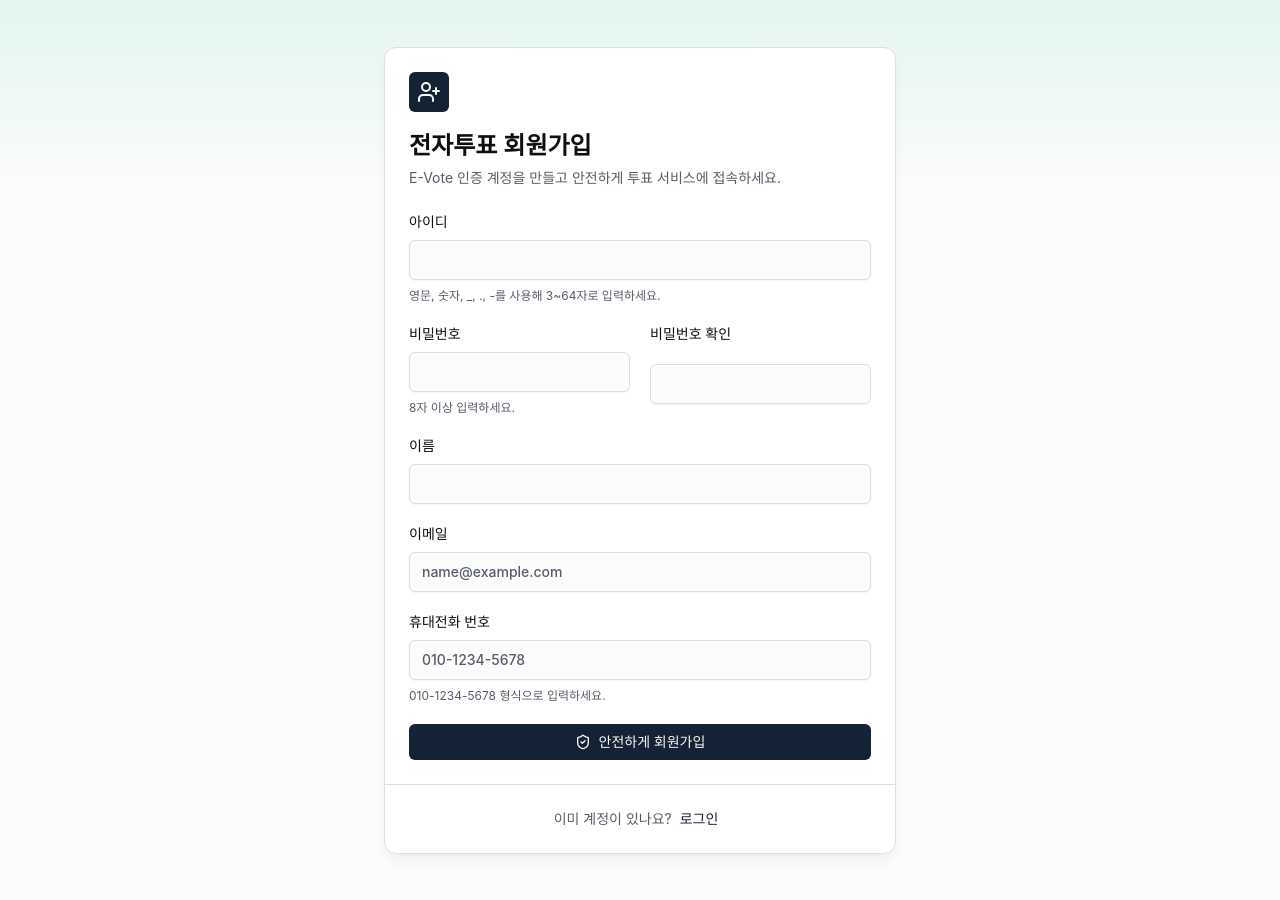
it: SignUpContainer › stops submission when password confirmation does not match
This screenshot has width=1280, height=900.
Type "voter01" into the field labelled "아이디" at (640, 260), box x1=409 y1=240 x2=871 y2=280
Type "password123" into the password field labelled "비밀번호" at (520, 372), box x1=409 y1=352 x2=630 y2=392
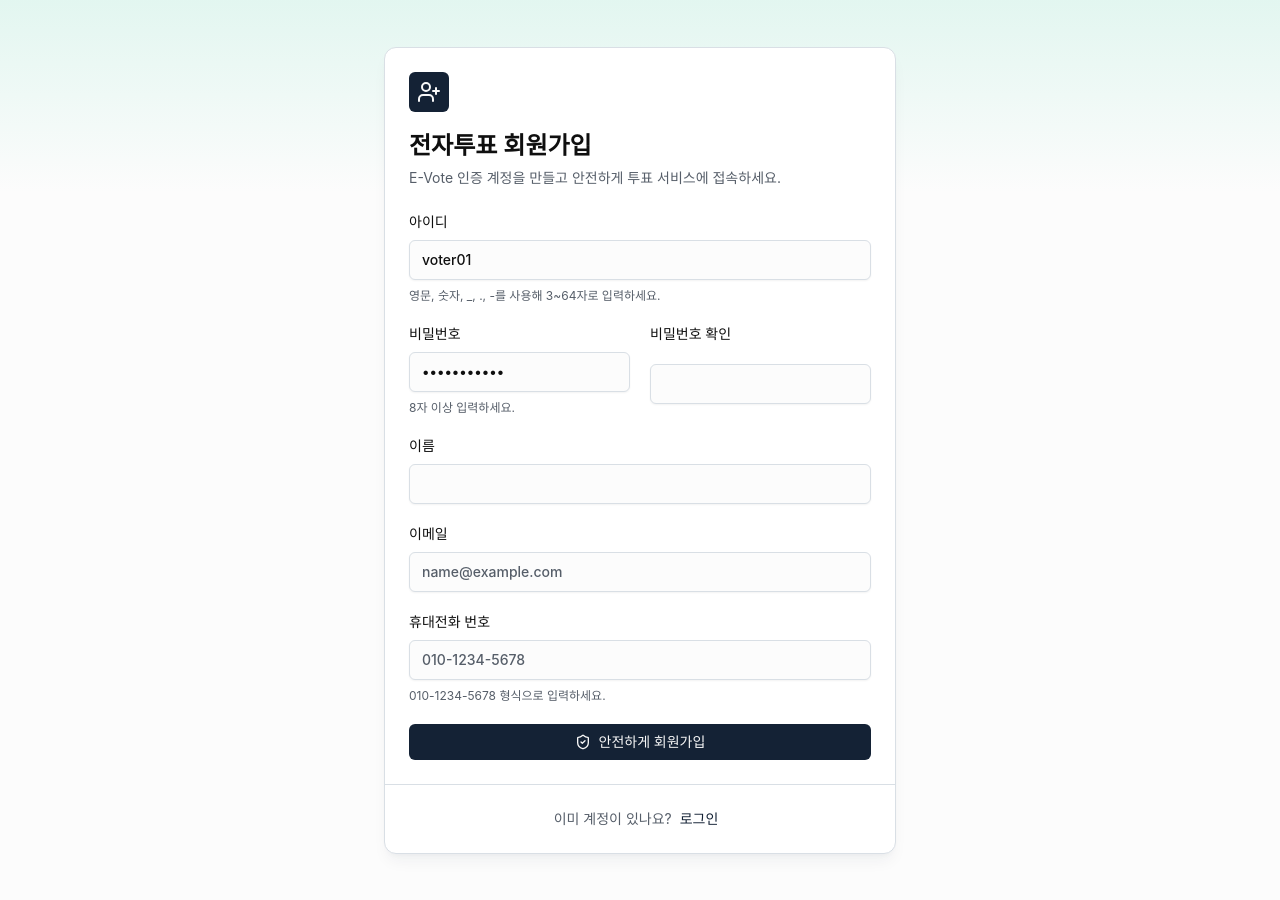
Type "different-password" into the password field labelled "비밀번호 확인" at (760, 384), box x1=650 y1=364 x2=871 y2=404
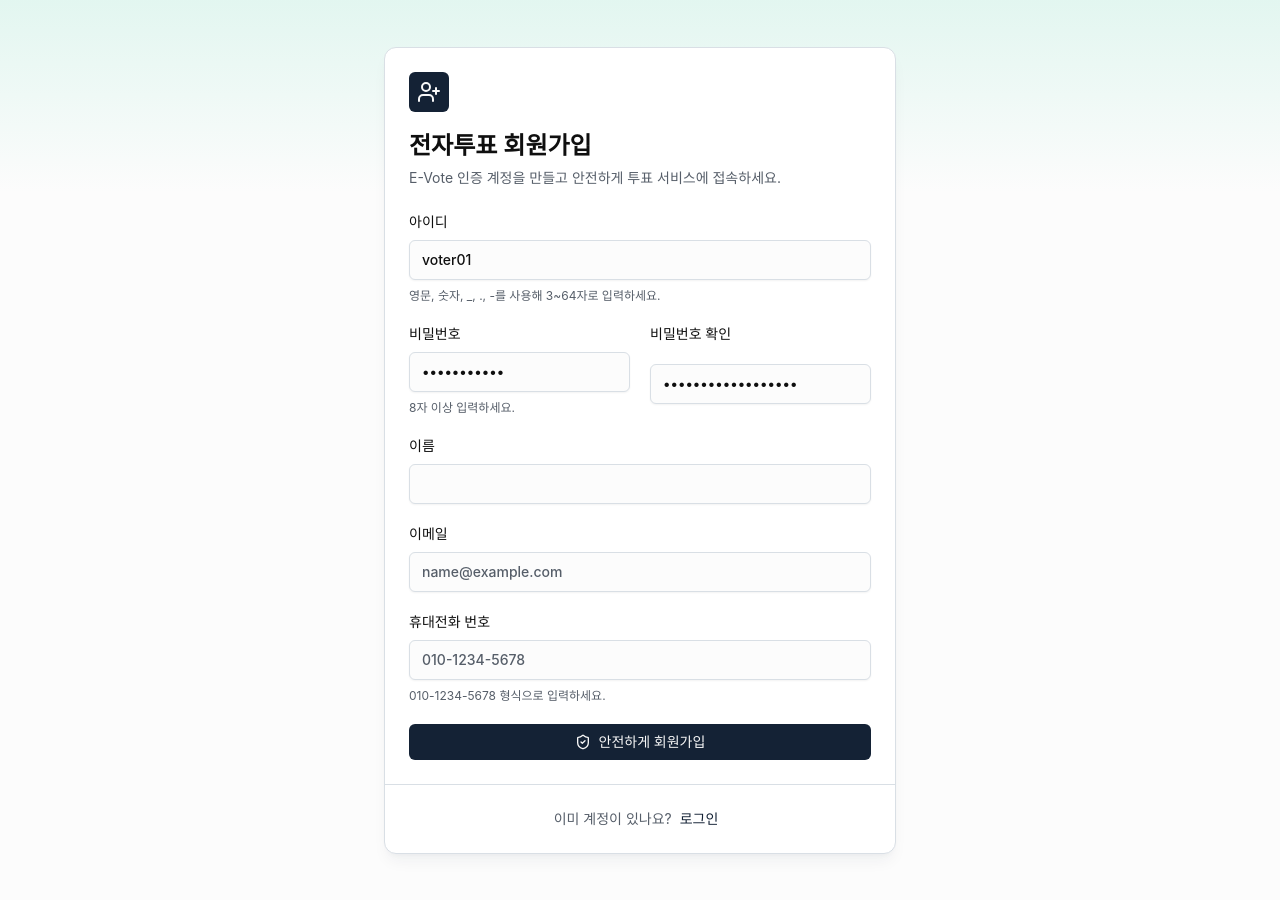
Type "김투표" into the field labelled "이름" at (640, 484), box x1=409 y1=464 x2=871 y2=504
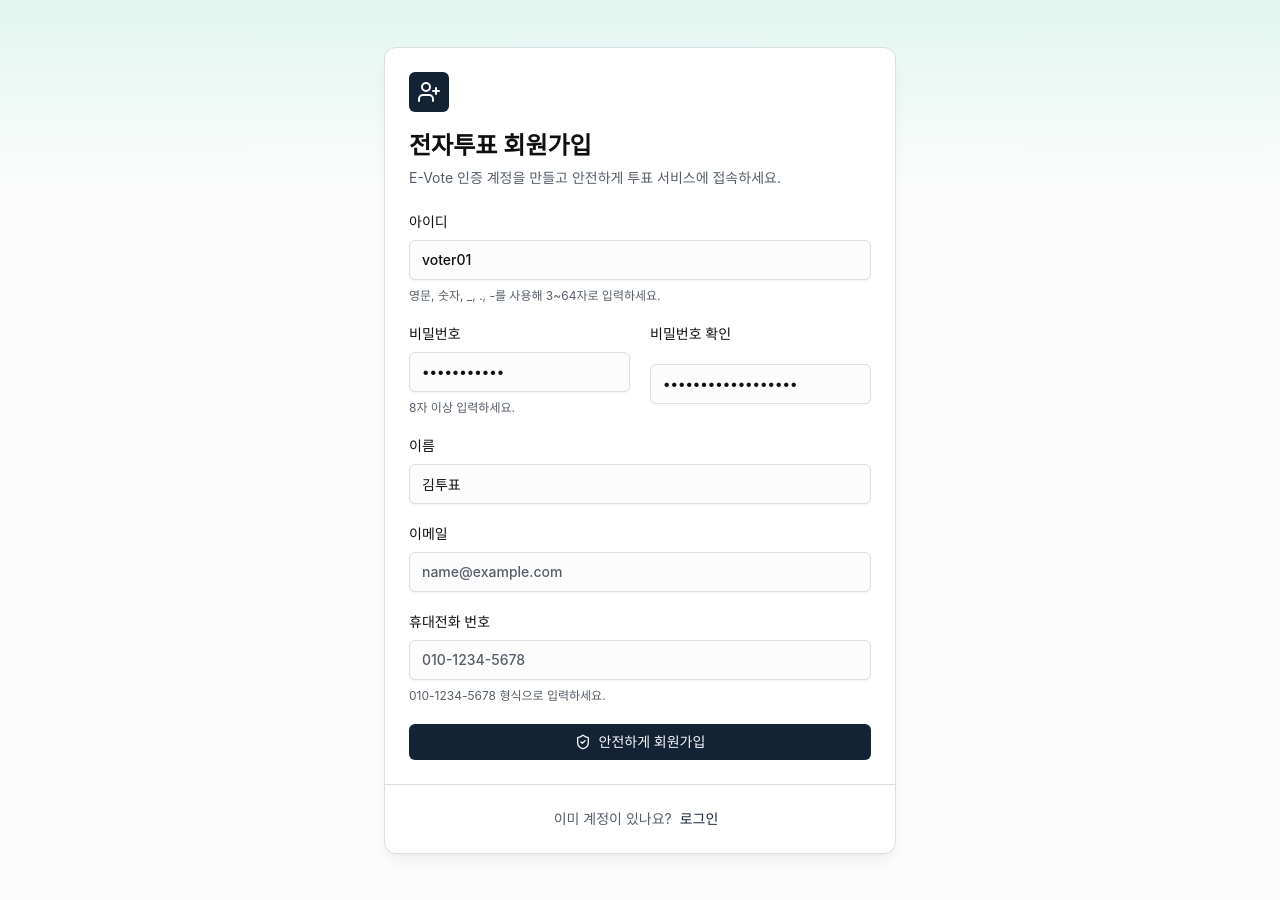
Type "voter@example.com" into the field labelled "이메일" at (640, 572), box x1=409 y1=552 x2=871 y2=592
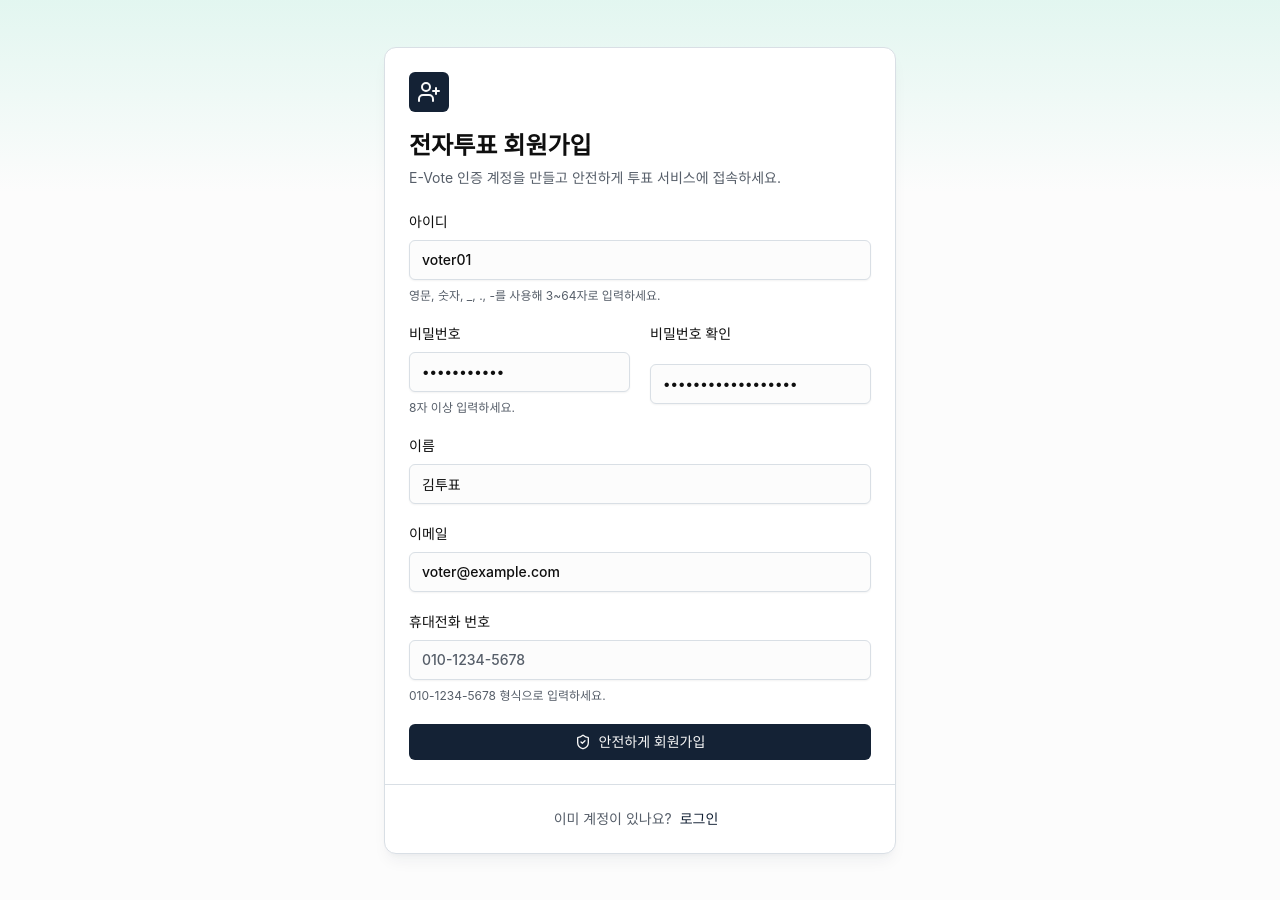
Type "01012345678" into the field labelled "휴대전화 번호" at (640, 660), box x1=409 y1=640 x2=871 y2=680
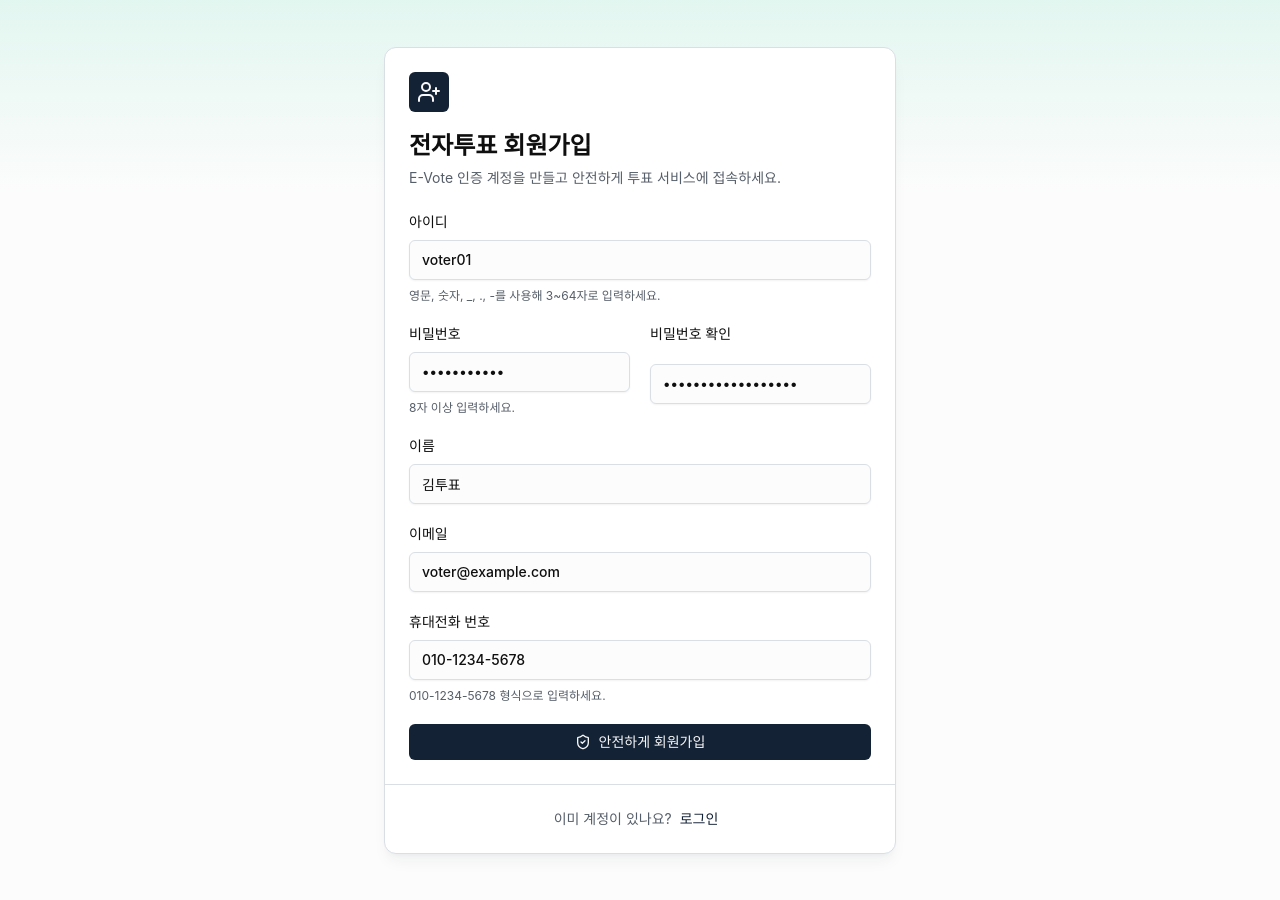
Submit the form named "안전하게 회원가입", box x1=409 y1=212 x2=871 y2=760
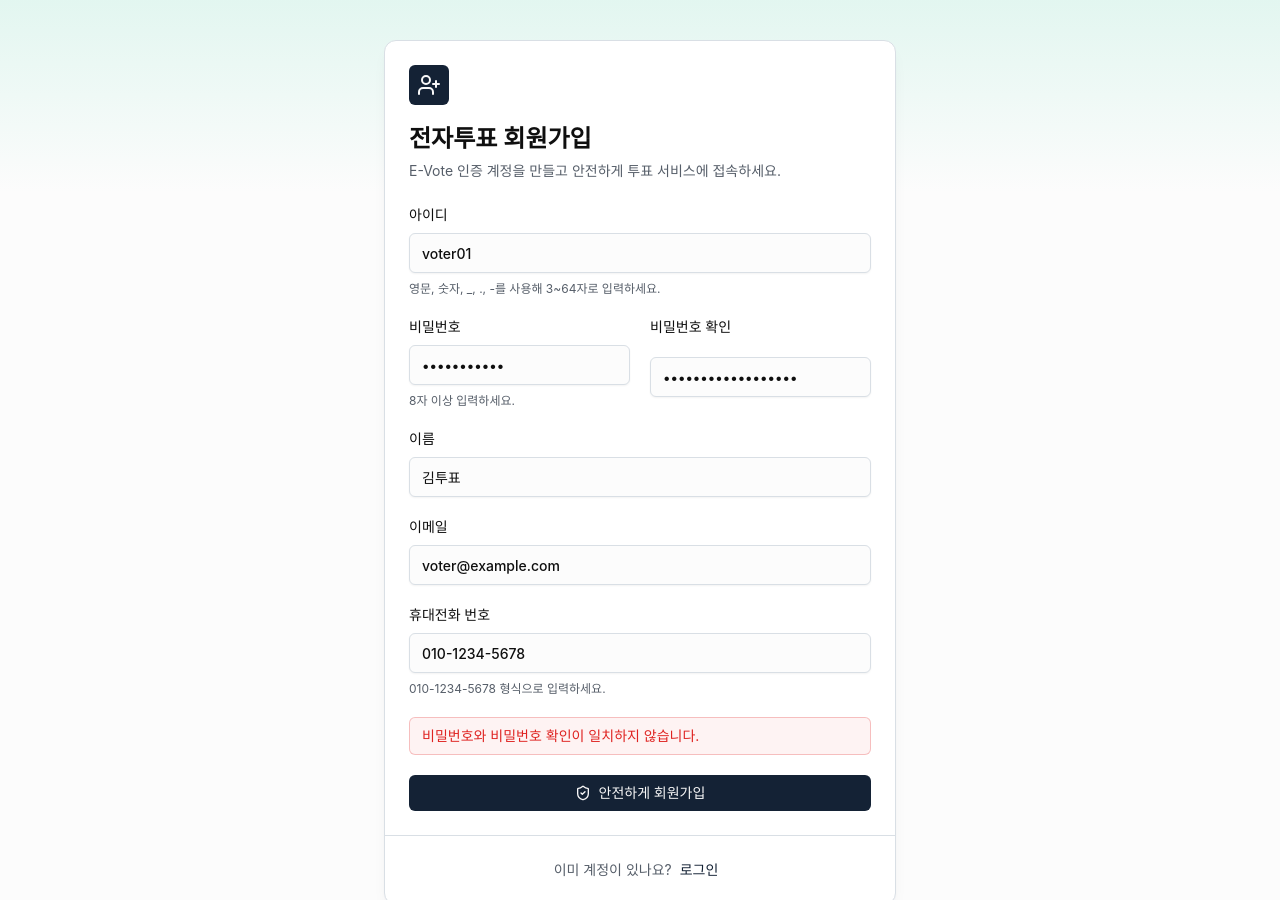
Result: the text "비밀번호와 비밀번호 확인이 일치하지 않습니다." is shown at x1=409 y1=717 x2=871 y2=755
